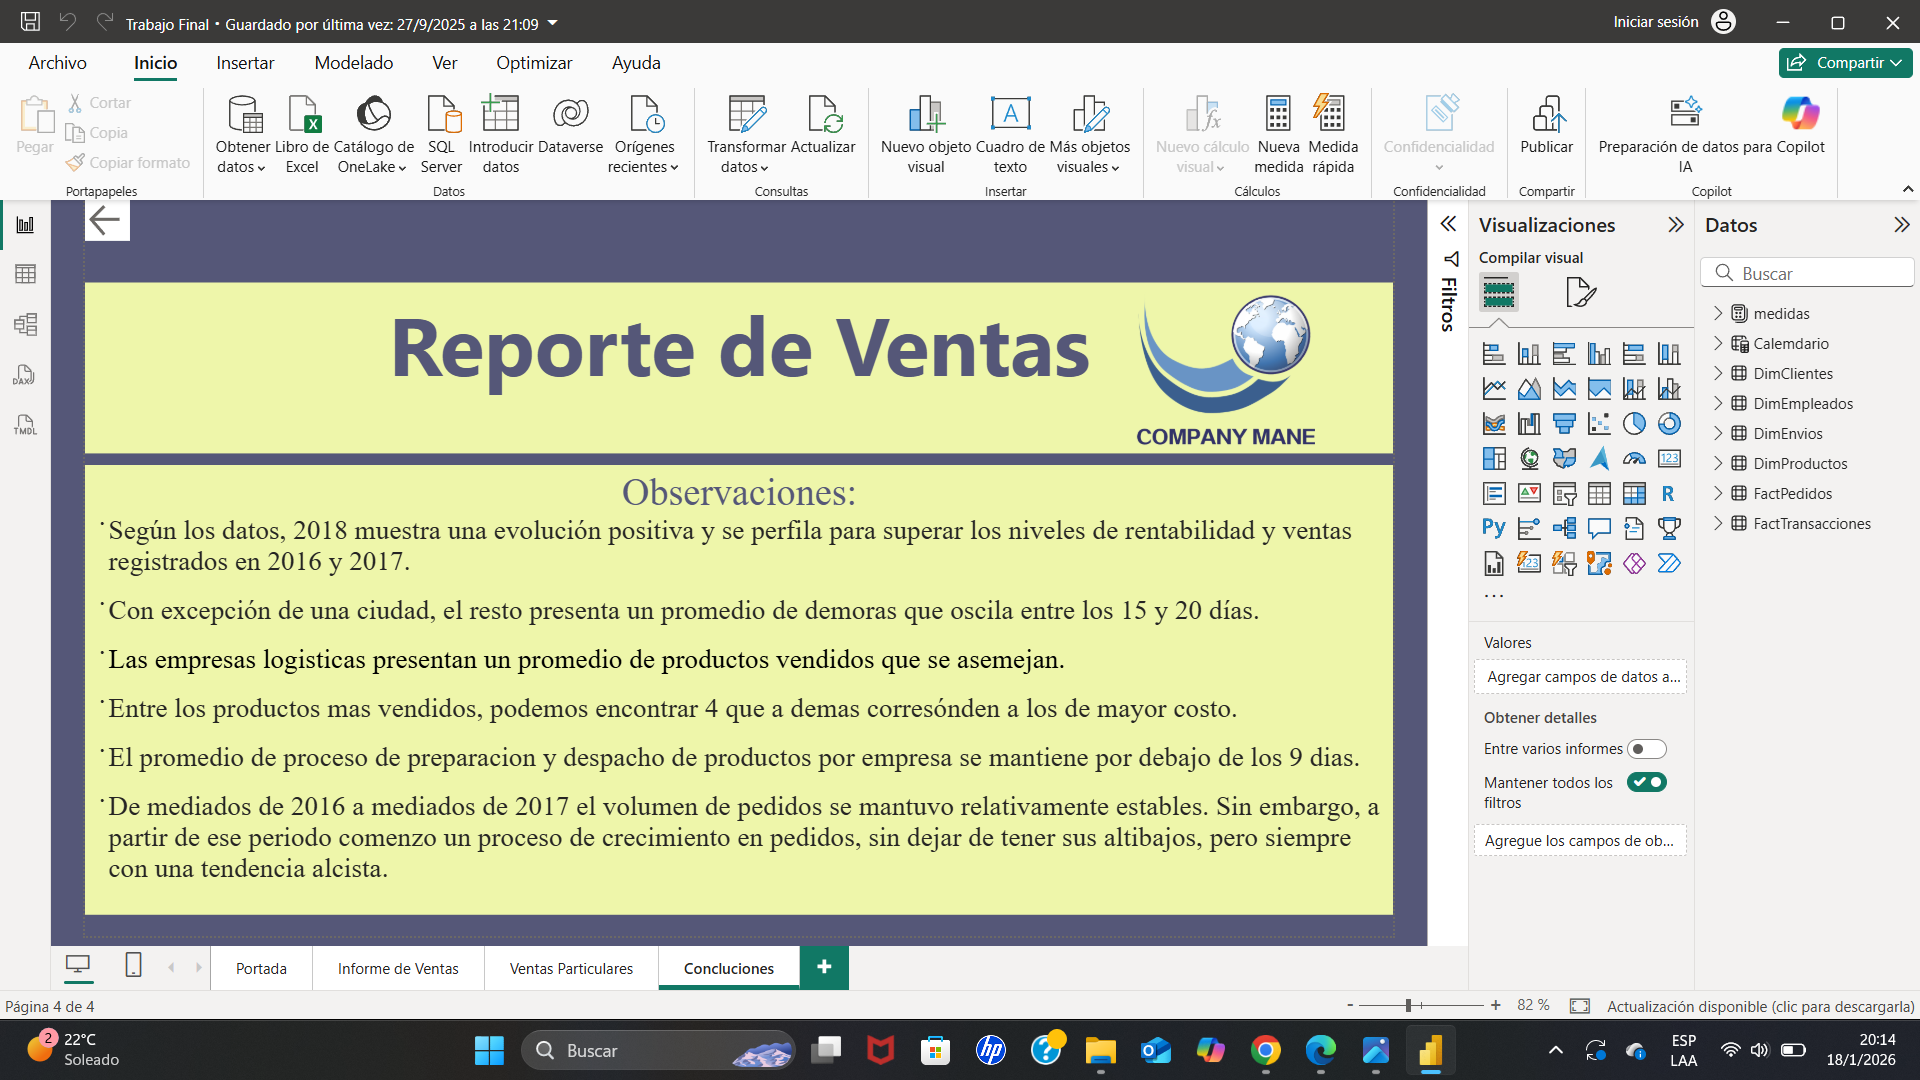

The dashboard page shown, as its layout file describes it:
{"tool":"powerbi","page":{"name":"Concluciones","canvas":[1280,720],"ordinal":3},"visuals":[{"type":"textbox","box":[0,81,1280.3,167.4],"z":0},{"type":"image","box":[959.2,0,321.1,359.5],"z":1000},{"type":"actionButton","box":[0,0,43.9,39.8],"z":2000},{"type":"textbox","box":[0,259.7,1280.6,440.3],"z":3000}]}

Visuals, with their boxes on the page's 1280x720 design canvas (x1, y1, x2, y2). These are canvas units, not pixel positions in the 1920x1080 screenshot, which may show the page scaled, cropped or inside an application window:
textbox: select_region(0, 81, 1280, 248)
image: select_region(959, 0, 1280, 360)
actionButton: select_region(0, 0, 44, 40)
textbox: select_region(0, 260, 1281, 700)
